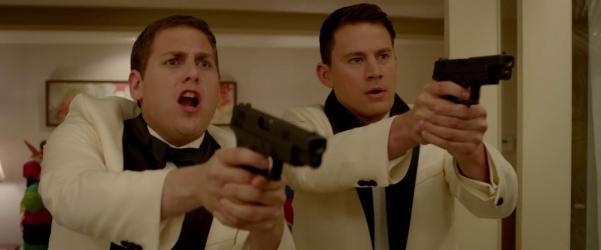Gun: (231, 102, 327, 170), (435, 53, 516, 102)
